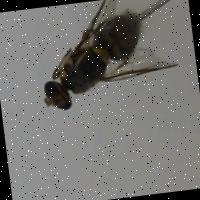Oriental-fruit-fly: (33, 0, 172, 118)
